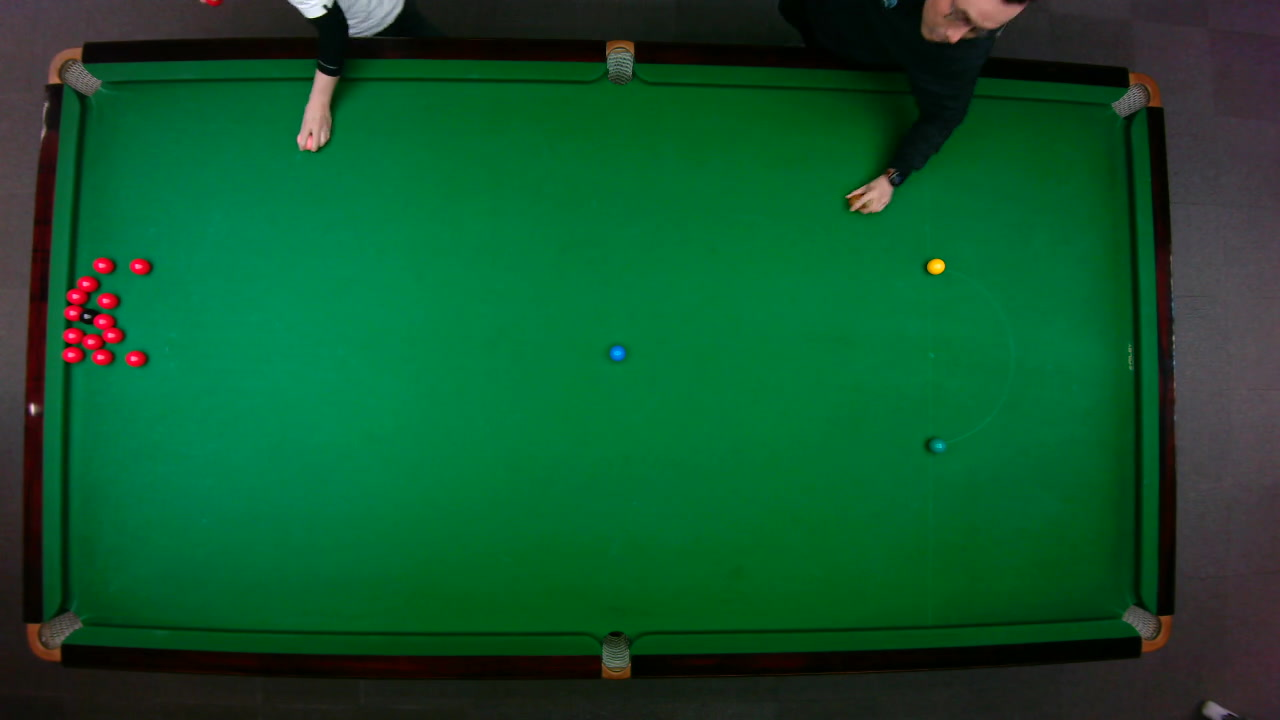bag: (24, 609, 83, 661), (45, 46, 102, 96), (1119, 603, 1172, 652), (1108, 70, 1162, 117), (600, 629, 630, 679), (605, 38, 633, 85)
black: (79, 308, 101, 325)
blue: (607, 343, 626, 361)
green: (927, 435, 946, 453)
red: (61, 325, 84, 345), (124, 348, 147, 367), (92, 255, 115, 274), (95, 291, 119, 309), (80, 332, 104, 350), (60, 345, 84, 363), (92, 311, 115, 329), (75, 274, 98, 292), (90, 348, 114, 365), (129, 257, 151, 275), (101, 326, 124, 343), (64, 287, 87, 304), (62, 304, 82, 320)
yellow: (924, 256, 946, 275)
zone: (926, 264, 1013, 445)
